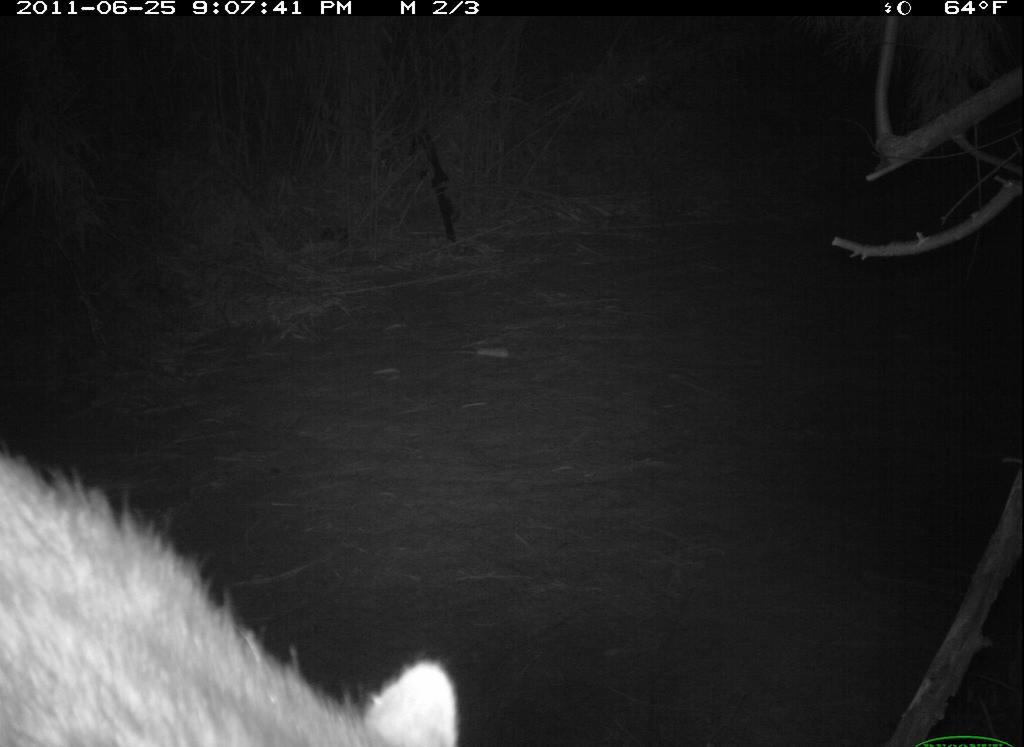raccoon: (11, 428, 492, 745)
